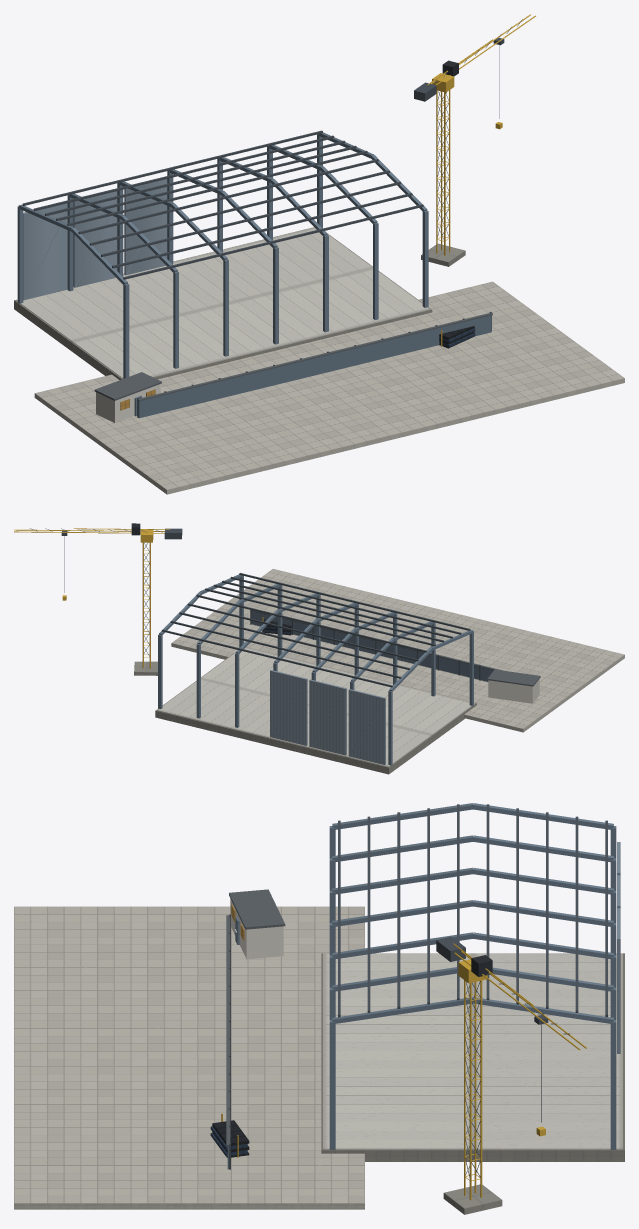
File: el-6-construction.glb
3 renders of one model, top to bottom at view 1: azimuth 30°, elevation 25°; view 2: azimuth 150°, elevation 25°; view 3: azimuth 270°, elevation 25°, orthographic. The views are drawn at different scales.
Bounding box in the file's own units: 66.08 × 20.75 × 45.25.
20 materials, 12 textured.
